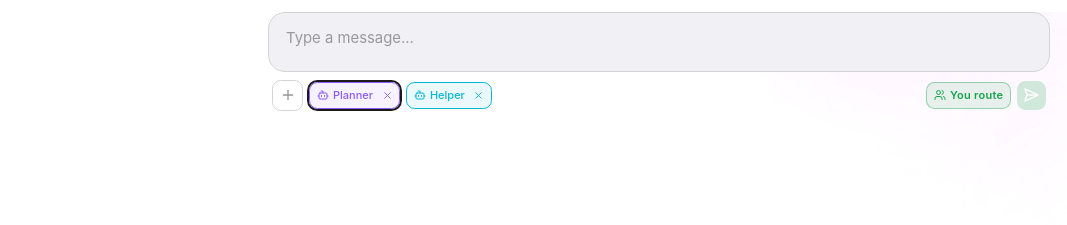
Scenario: the agent chip menu › offers Set as Coordinator, Go to Agent and Open Agent Folder on a local folder agent
Right-click the element showing "Planner": (355, 95) x1=309 y1=82 x2=400 y2=109
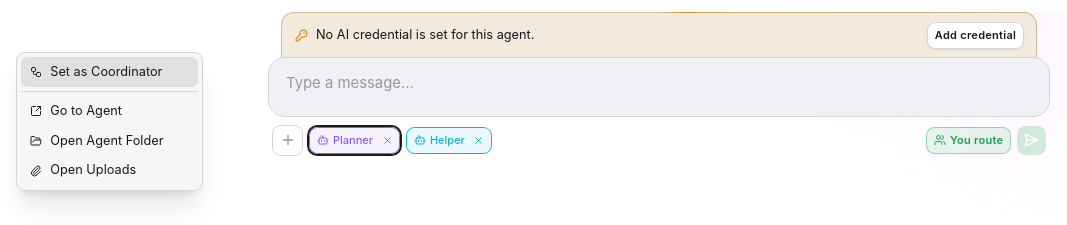
expect the menu items read "Set as Coordinator", "Go to Agent", "Open Agent Folder", "Open Uploads", in this order: met, box x1=21 y1=57 x2=198 y2=87; x1=21 y1=96 x2=198 y2=126; x1=21 y1=126 x2=198 y2=156; x1=21 y1=156 x2=198 y2=186
expect the menu item "Set as Coordinator" is enabled: met, box x1=21 y1=57 x2=198 y2=87
